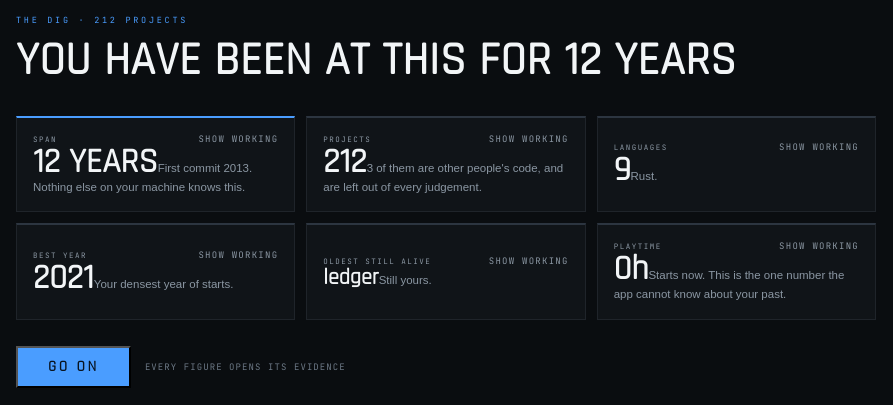
the oldest panel evidence stops at the language
Click the button with test id "fr-panel" that starts with "OLDEST STILL ALIVE".
click(377, 261)  # box [306,223,586,320]
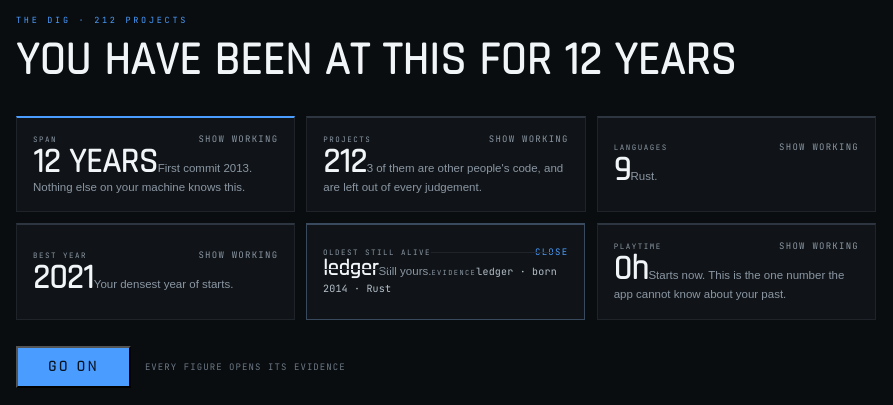
Check: the text with test id "fr-evidence-body" reads "ledger · born 2014 · Rust", box [323,265,557,295]
